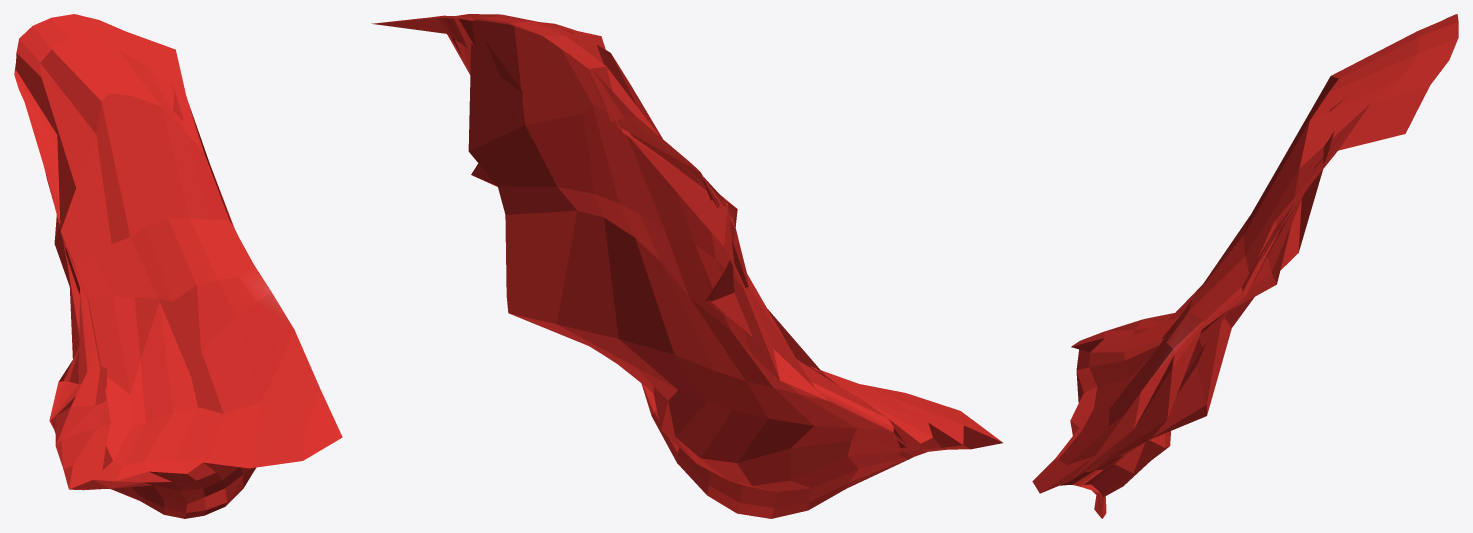
The model's file is Petal1_8.glb.
3 renders of one model, left to right at view 1: azimuth 30°, elevation 25°; view 2: azimuth 150°, elevation 25°; view 3: azimuth 270°, elevation 25°, orthographic. The views are drawn at different scales.
Visible parts, largest first — view 1: Cube.003; view 2: Cube.003; view 3: Cube.003.
Boxes of the visible parts, x1=… form: Cube.003: x1=14, y1=14, x2=342, y2=518; Cube.003: x1=371, y1=14, x2=1002, y2=518; Cube.003: x1=1032, y1=14, x2=1458, y2=518.
Size of the model in its own units: 15.69 by 22.96 by 18.24.
